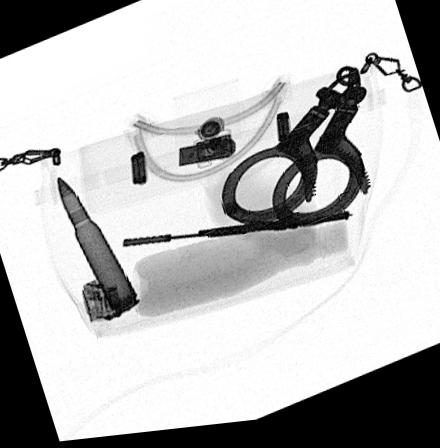Bullet: (56, 177, 138, 318)
Gun: (122, 217, 349, 249)
HandCuffs: (219, 70, 370, 233)
